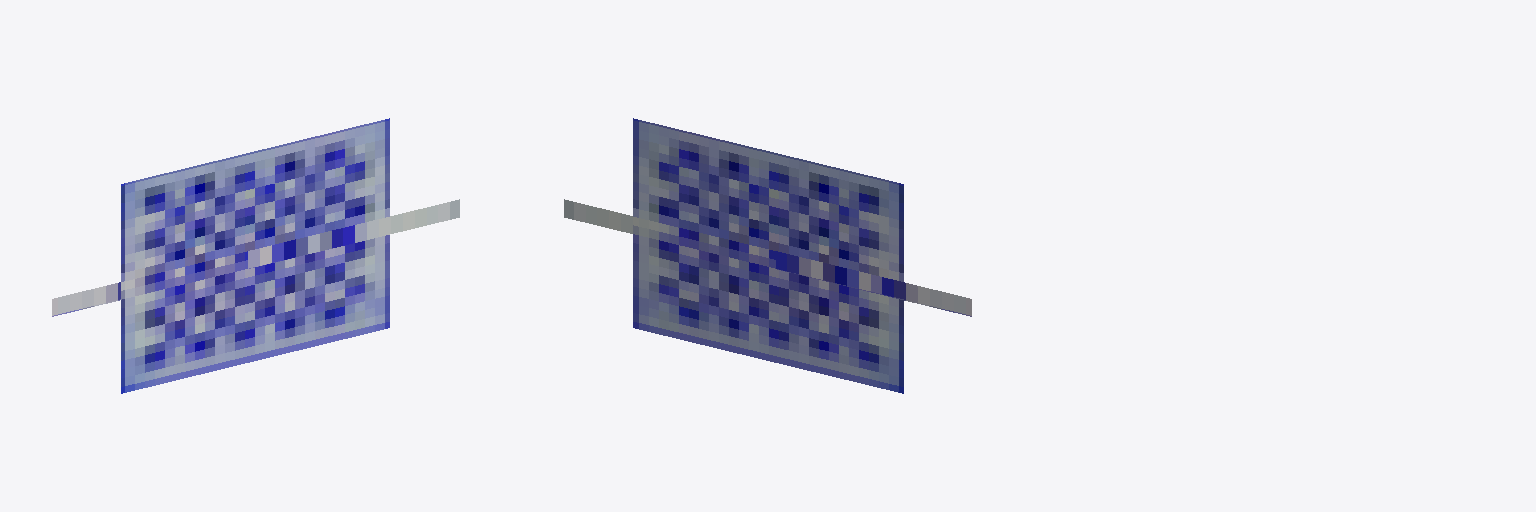
The picture shows the model from 3 angles: view 1: azimuth 30°, elevation 25°; view 2: azimuth 150°, elevation 25°; view 3: azimuth 270°, elevation 25°; orthographic projection.
Parts seen in each view (by area): view 1: Plane.054; view 2: Plane.054; view 3: none.
Boxes of the visible parts, box(x1,y1,x2,y2) form: Plane.054: box(52, 118, 459, 393); Plane.054: box(564, 118, 971, 393).
Size of the model in its own units: 0.994 by 0.4893 by 0.0011.
1 materials, 1 textured.